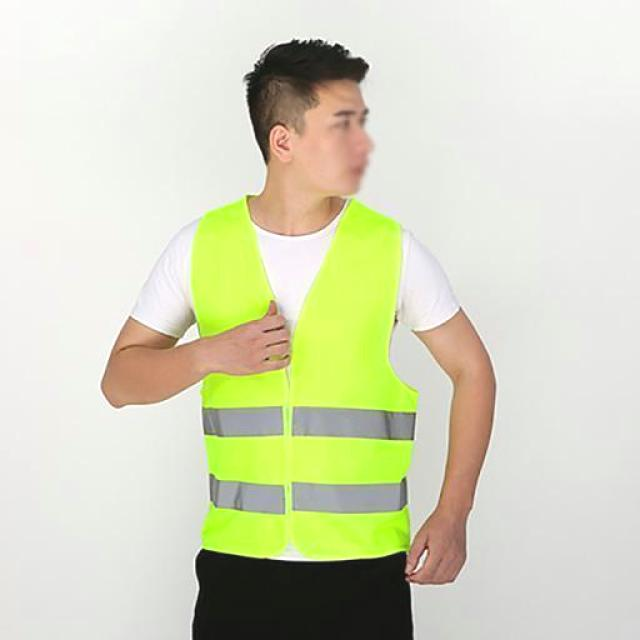face_nomask: (313, 100, 381, 194)
hand_noglove: (208, 296, 300, 375), (398, 508, 476, 594)
head_nohelmet: (235, 36, 381, 108)
person: (99, 32, 501, 640)
vest: (186, 206, 414, 553)
